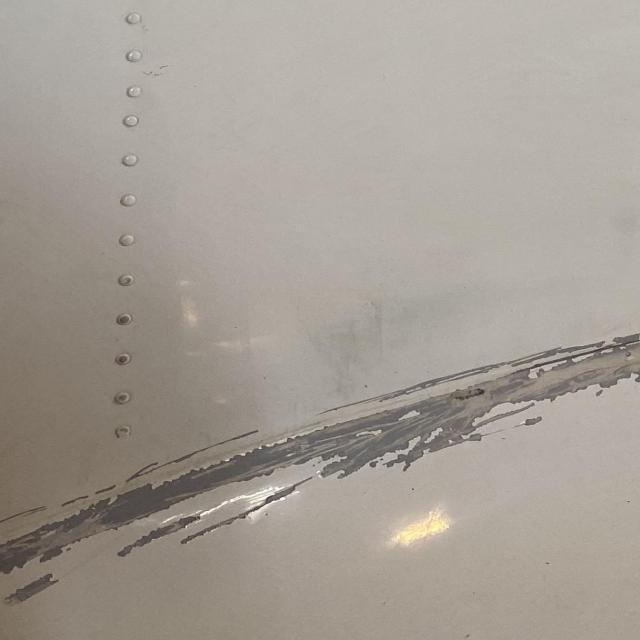Paint-off: (116, 518, 201, 560), (3, 578, 56, 608), (521, 417, 545, 428)
Scratch: (0, 327, 640, 597), (201, 480, 319, 536)
